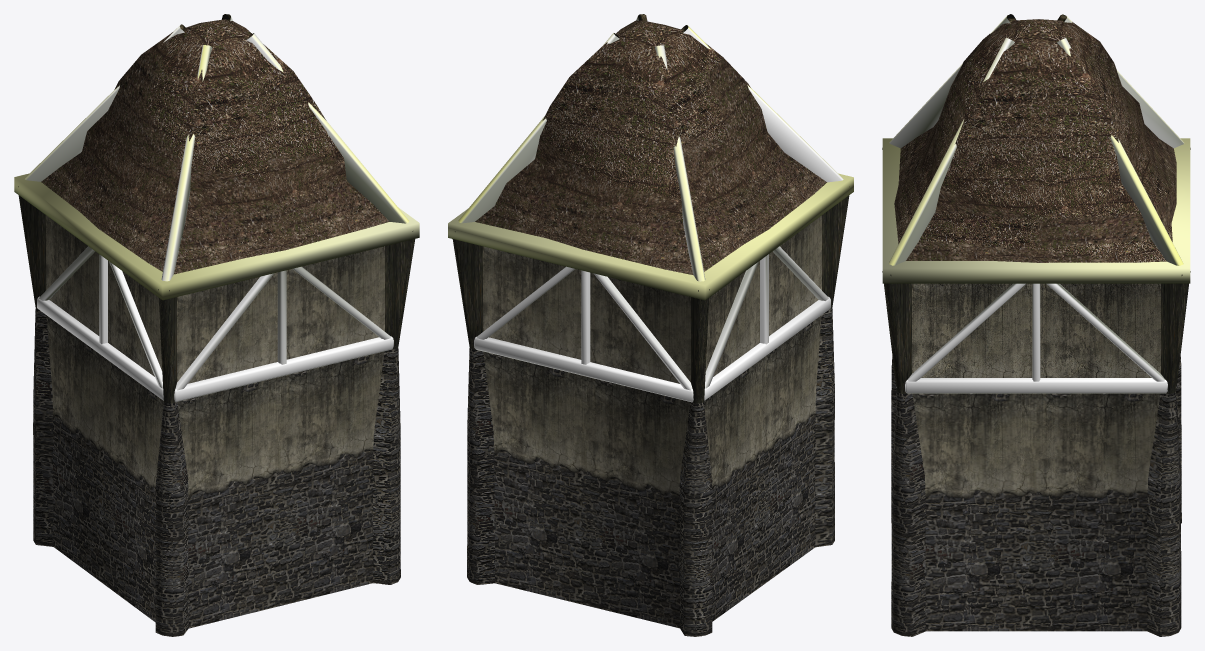
The model's file is ex_common_house_tall_01.dae.
The picture shows the model from 3 angles, left to right: view 1: azimuth 30°, elevation 25°; view 2: azimuth 150°, elevation 25°; view 3: azimuth 270°, elevation 25°; orthographic projection. The views are drawn at different scales.
Parts seen in each view (by area): view 1: nifid_35-matrix, nifid_2-matrix, nifid_12-matrix, nifid_27-matrix, nifid_22-matrix, nifid_17-matrix, nifid_7-matrix; view 2: nifid_35-matrix, nifid_2-matrix, nifid_12-matrix, nifid_27-matrix, nifid_22-matrix, nifid_17-matrix, nifid_7-matrix; view 3: nifid_35-matrix, nifid_2-matrix, nifid_12-matrix, nifid_27-matrix, nifid_22-matrix, nifid_17-matrix, nifid_7-matrix.
Boxes of the visible parts, left/top/right/bottom form: nifid_35-matrix: left=41, top=19, right=389, bottom=274; nifid_2-matrix: left=46, top=315, right=384, bottom=511; nifid_12-matrix: left=53, top=431, right=372, bottom=628; nifid_27-matrix: left=14, top=16, right=419, bottom=402; nifid_22-matrix: left=46, top=215, right=384, bottom=383; nifid_17-matrix: left=33, top=308, right=400, bottom=636; nifid_7-matrix: left=18, top=186, right=415, bottom=403; nifid_35-matrix: left=475, top=20, right=826, bottom=274; nifid_2-matrix: left=483, top=315, right=821, bottom=512; nifid_12-matrix: left=494, top=431, right=815, bottom=628; nifid_27-matrix: left=448, top=17, right=853, bottom=402; nifid_22-matrix: left=483, top=215, right=821, bottom=383; nifid_17-matrix: left=467, top=308, right=834, bottom=636; nifid_7-matrix: left=452, top=186, right=849, bottom=403; nifid_35-matrix: left=894, top=19, right=1176, bottom=262; nifid_2-matrix: left=912, top=393, right=1160, bottom=511; nifid_12-matrix: left=925, top=511, right=1147, bottom=631; nifid_27-matrix: left=882, top=16, right=1190, bottom=393; nifid_22-matrix: left=912, top=283, right=1160, bottom=377; nifid_17-matrix: left=891, top=356, right=1181, bottom=636; nifid_7-matrix: left=882, top=148, right=1190, bottom=393.
Bounding box in the file's own units: 594 × 594 × 1185.
Materials: 8 (7 with a texture image).
